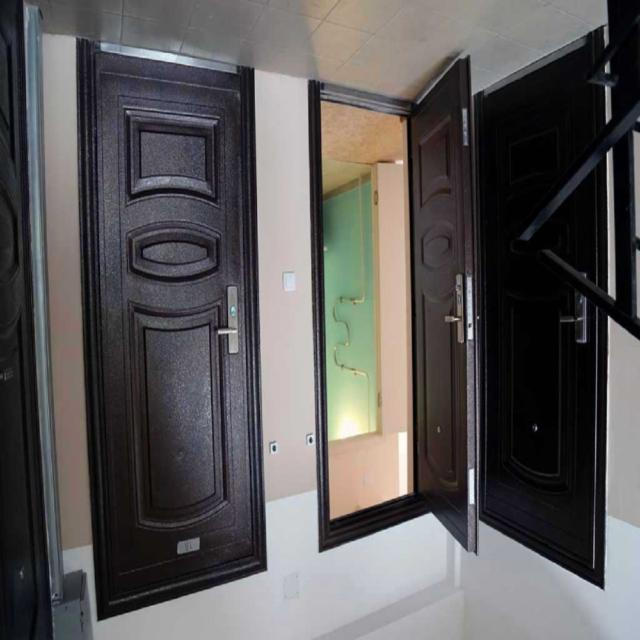close: (82, 49, 258, 553), (483, 66, 599, 564)
open: (313, 80, 468, 526)
